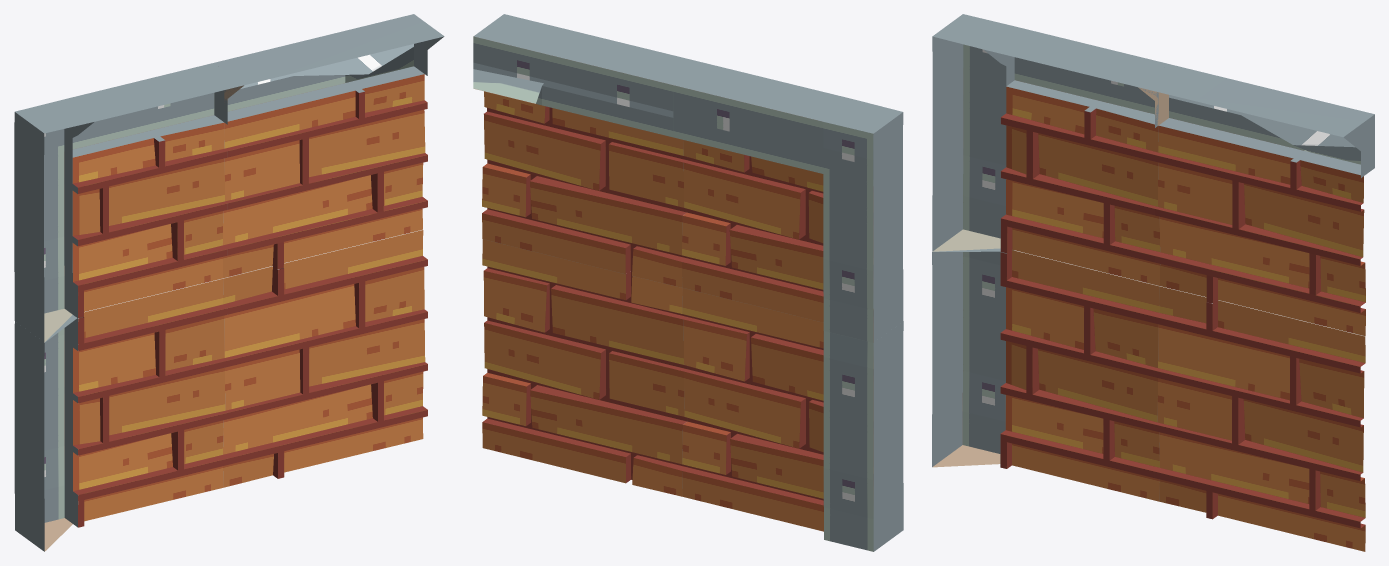
File: CornerTRKayu.fbx
3 views of the same model, side by side, from view 1: azimuth 30°, elevation 25°; view 2: azimuth 150°, elevation 25°; view 3: azimuth 330°, elevation 25° (orthographic). The views are drawn at different scales.
Parts seen in each view (by area): view 1: CornerTRKayu; view 2: CornerTRKayu; view 3: CornerTRKayu.
Part boxes in pixels (bbox=[...]): CornerTRKayu: bbox=[14, 14, 444, 551]; CornerTRKayu: bbox=[473, 14, 903, 551]; CornerTRKayu: bbox=[932, 14, 1374, 551].
Bounding box in the file's own units: 12.59 × 94.81 × 94.83.
